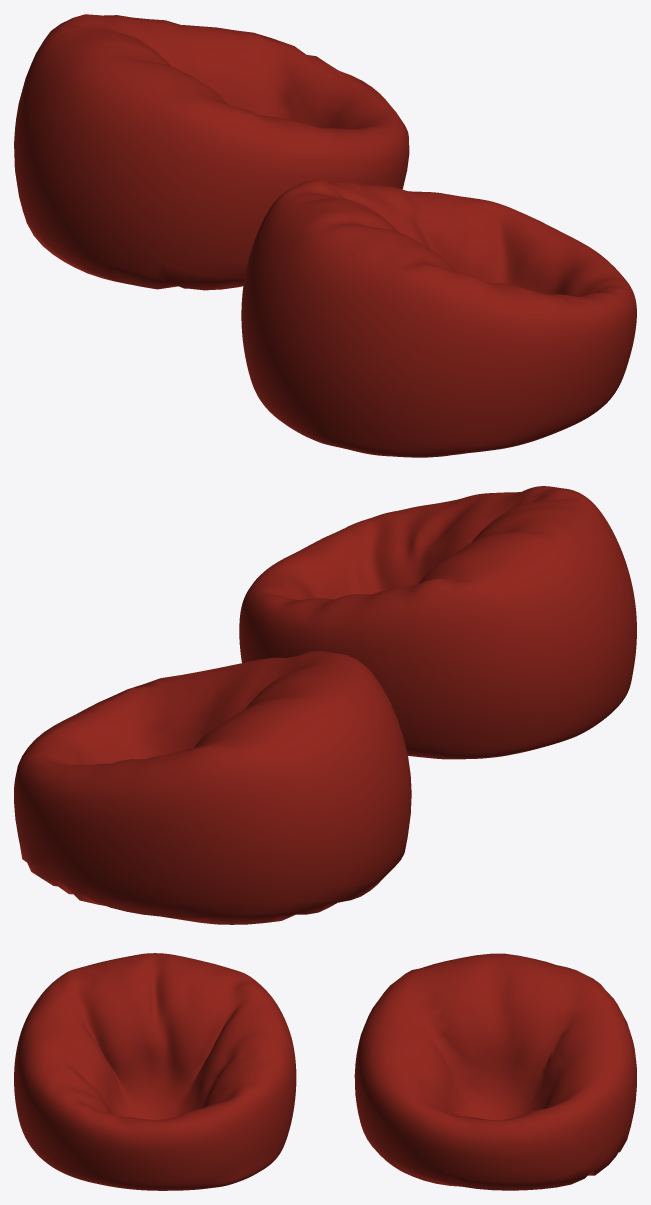
Rendered from bean bag.fbx.
3 renders of one model, top to bottom at view 1: azimuth 30°, elevation 25°; view 2: azimuth 150°, elevation 25°; view 3: azimuth 270°, elevation 25°, orthographic. The views are drawn at different scales.
Parts seen in each view (by area): view 1: bean bag high poly, bean bag low poly; view 2: bean bag low poly, bean bag high poly; view 3: bean bag high poly, bean bag low poly.
Part boxes in pixels (box(x1,y1,x2,y2)): bean bag high poly: box(241, 180, 636, 457); bean bag low poly: box(14, 14, 409, 290); bean bag low poly: box(14, 651, 411, 924); bean bag high poly: box(239, 486, 636, 759); bean bag high poly: box(14, 953, 296, 1190); bean bag low poly: box(354, 953, 636, 1190).
Bounding box in the file's own units: 510 × 265 × 1061.
